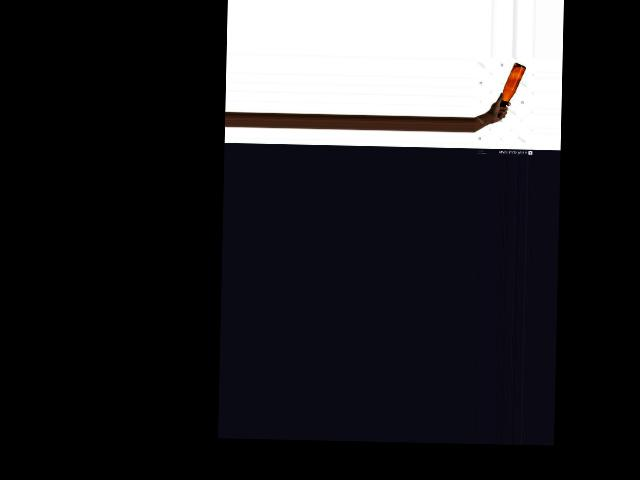beer: (497, 61, 525, 117)
